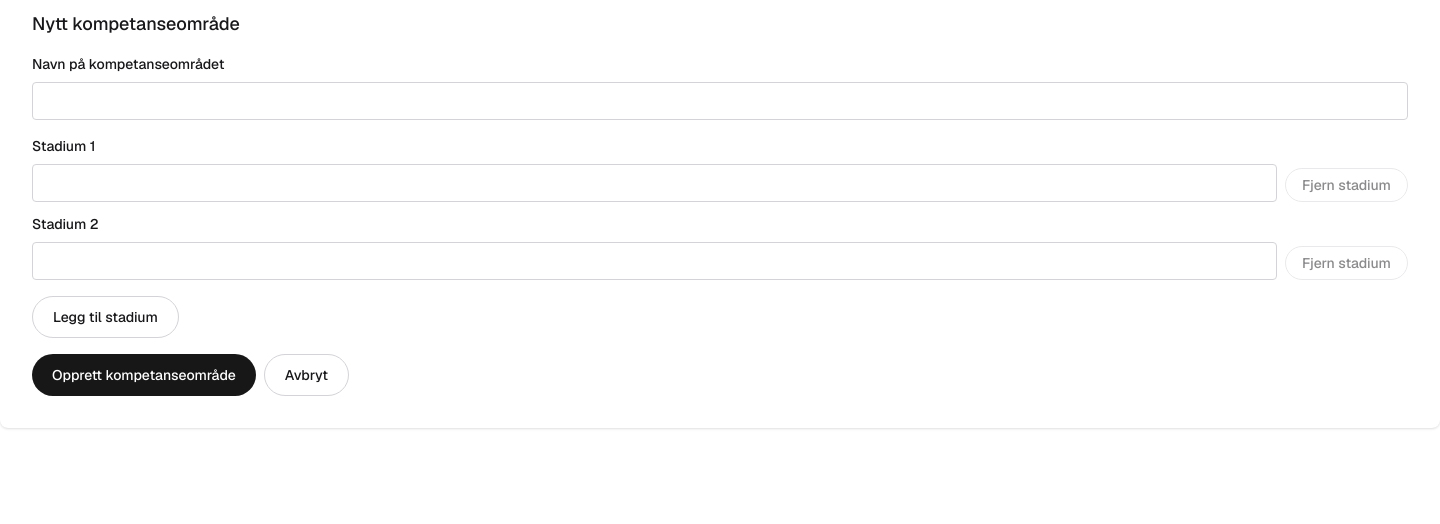
it: SkillTreeCreationForm › removes a stage row via its remove button, never going below the 2-node boundary
Expected: the number of buttons "Fjern stadium" is 2, [1285,168,1408,202]; [1285,246,1408,280]
Click the button "Legg til stadium". click: [105, 317]
box: [32,296,179,338]
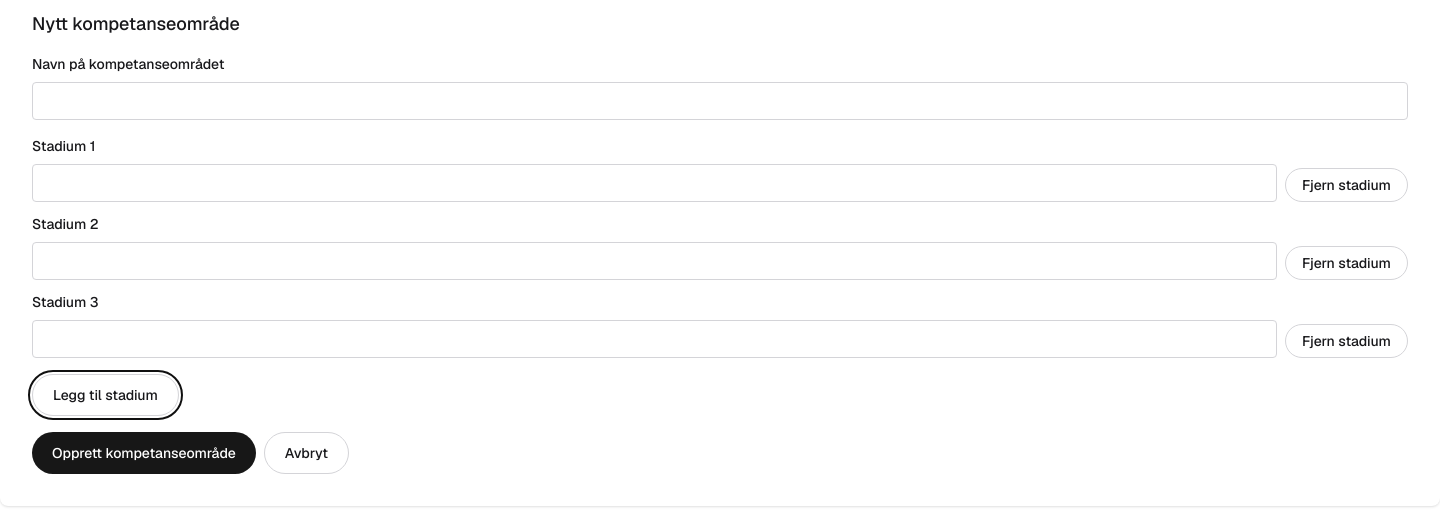
Click the 3rd button "Fjern stadium". click: [1346, 341]
box: [1285,324,1408,358]
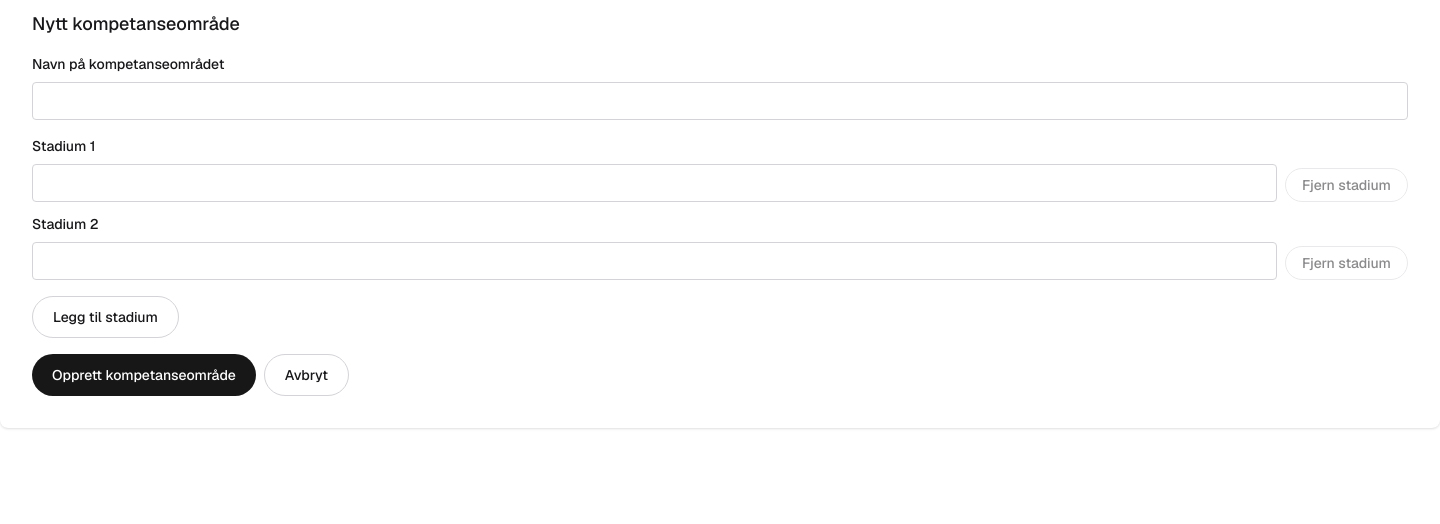
Expected: the label labelled "Stadium 3" is gone
